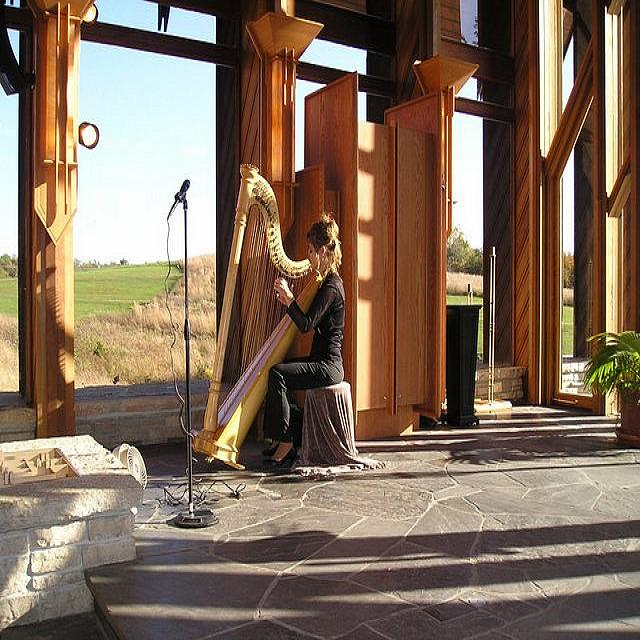harp: (193, 165, 322, 472)
